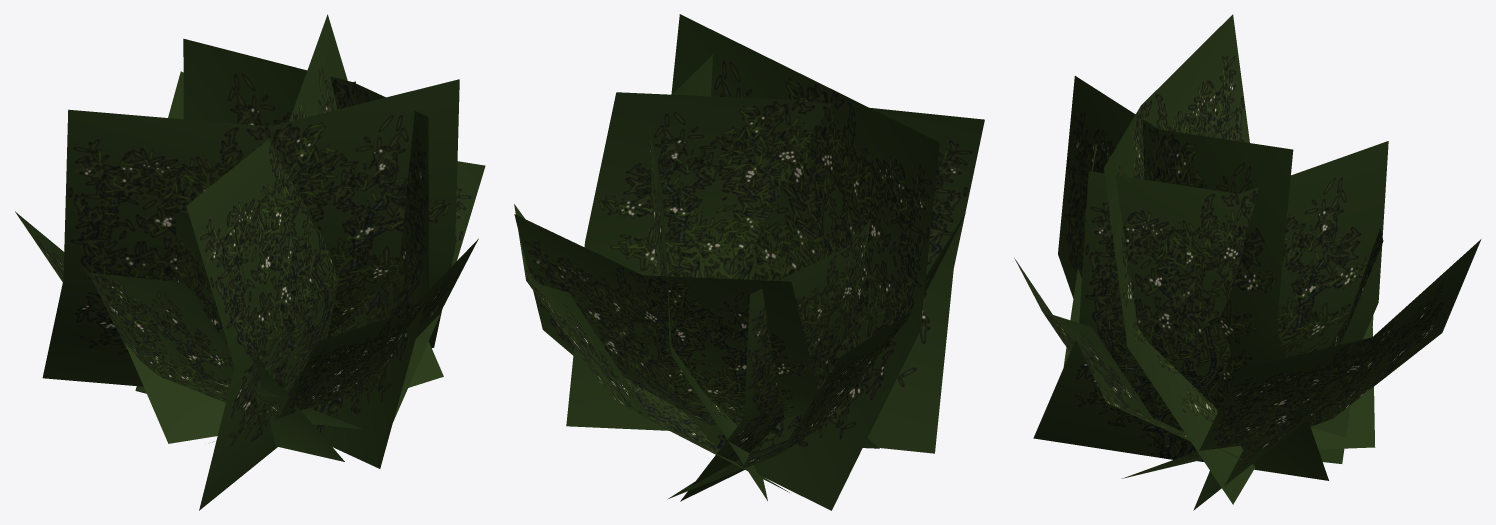
File: nf_bush2.glb
The picture shows the model from 3 angles, left to right: view 1: azimuth 30°, elevation 25°; view 2: azimuth 150°, elevation 25°; view 3: azimuth 270°, elevation 25°; orthographic projection. The views are drawn at different scales.
Visible parts, largest first — view 1: Box05; view 2: Box05; view 3: Box05.
Boxes of the visible parts, x1,y1,x2,y2 form: Box05: [15, 14, 485, 510]; Box05: [514, 14, 984, 510]; Box05: [1014, 14, 1481, 510].
Bounding box in the file's own units: 214 × 181 × 212.
1 material, 1 textured.
